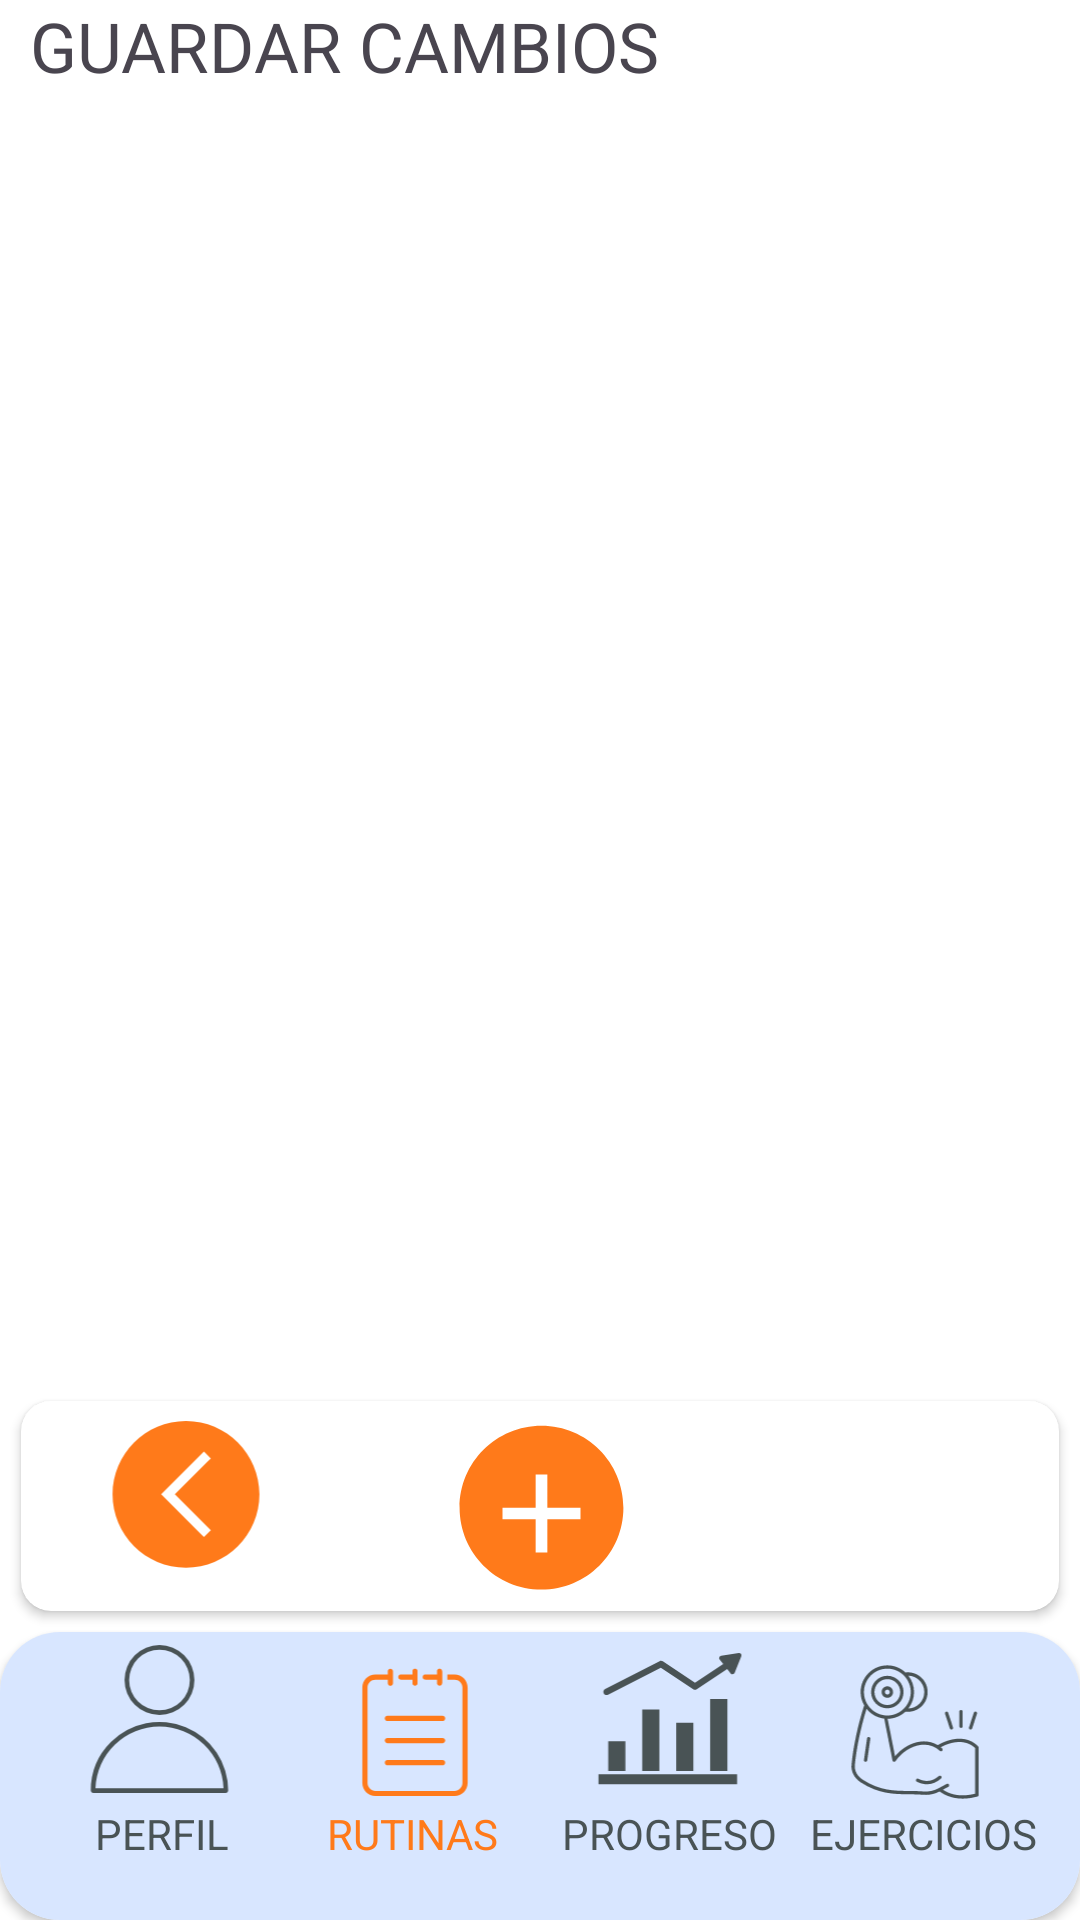

Where to tap for icons on this 1080w x 1920h app screen, as (x=x, y=y):
agregar: (x=541, y=1507)
volver atras: (x=186, y=1494)
